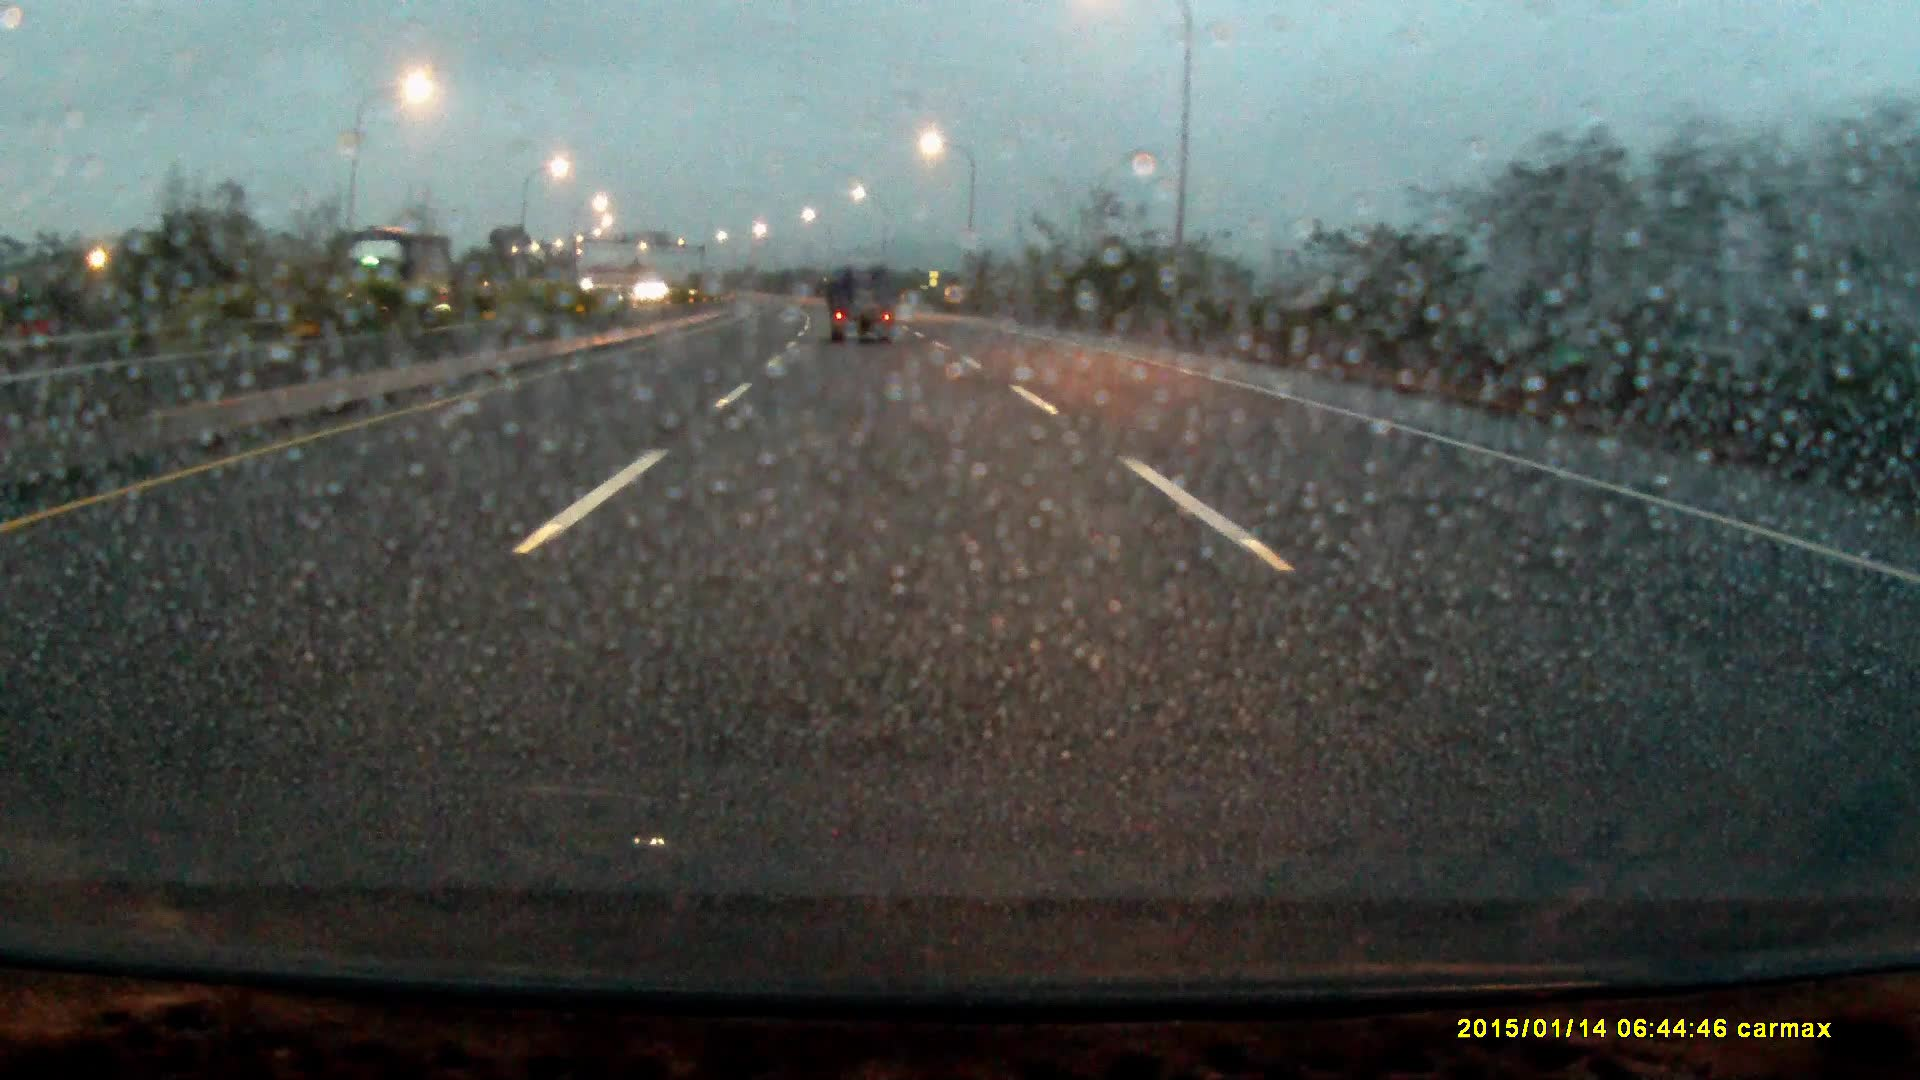vehicle: (324, 233, 467, 339), (828, 274, 901, 349)
